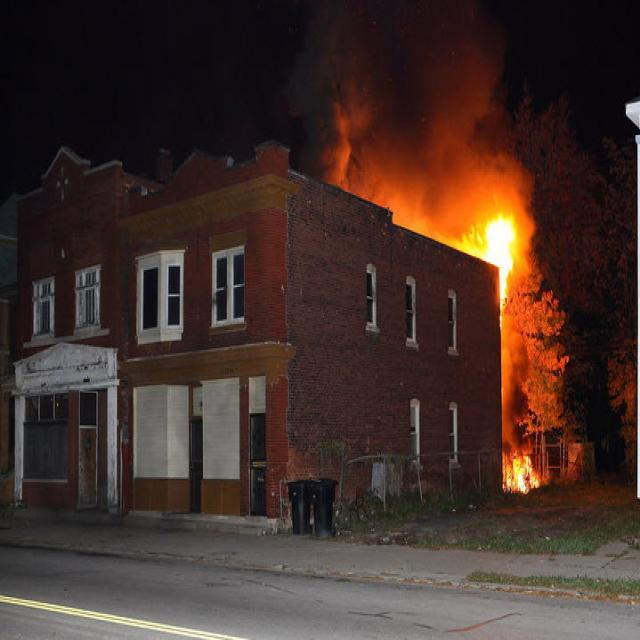Fire: (469, 209, 516, 317), (504, 444, 540, 498)
Smoke: (284, 0, 538, 216)
